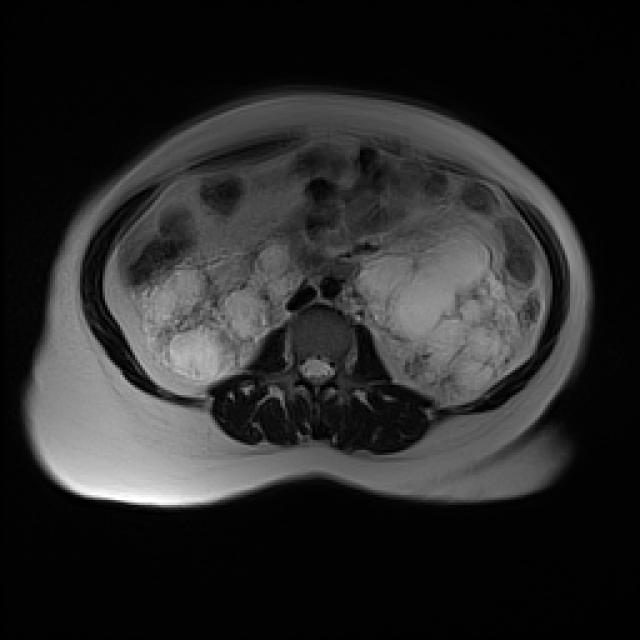sag: (135, 242, 301, 384)
sol: (359, 225, 521, 406)
